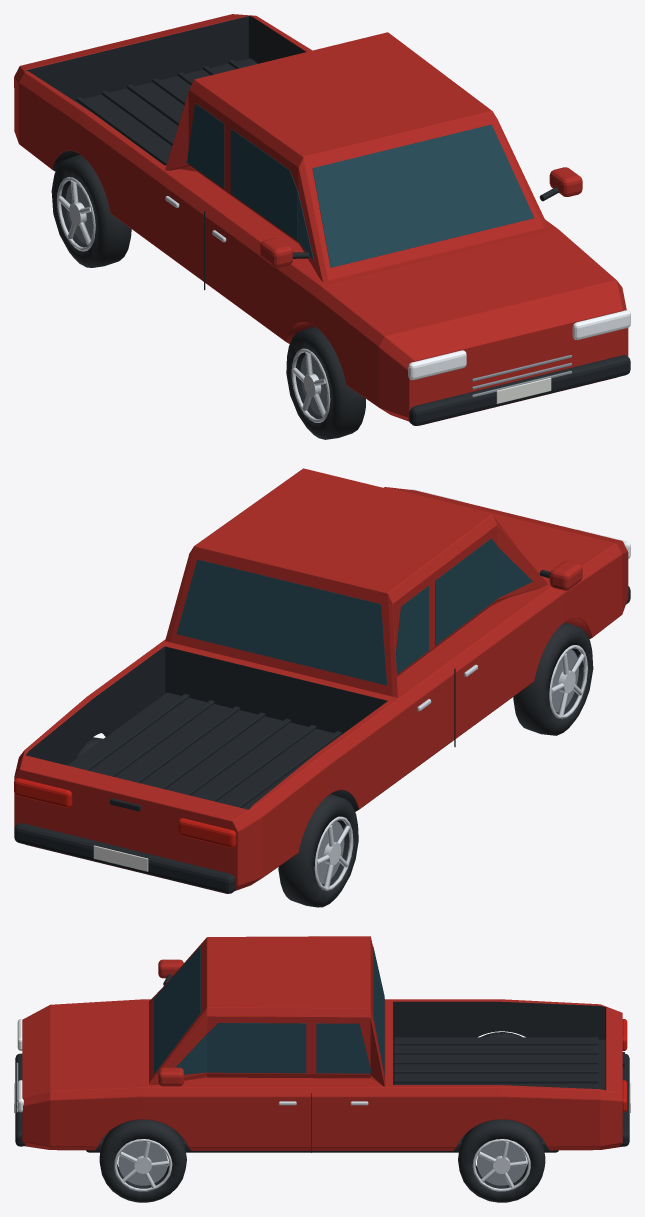
File: PickupTruck.fbx
The picture shows the model from 3 angles, top to bottom: view 1: azimuth 30°, elevation 25°; view 2: azimuth 150°, elevation 25°; view 3: azimuth 270°, elevation 25°; orthographic projection. The views are drawn at different scales.
Visible parts, largest first — view 1: PickupTruck, wheel1, wheel3; view 2: PickupTruck, wheel3, wheel1; view 3: PickupTruck, wheel4, wheel2.
Boxes of the visible parts, box(x1,y1,x2,y2) form: PickupTruck: box(14, 14, 630, 425); wheel1: box(286, 326, 365, 439); wheel3: box(51, 154, 131, 267); PickupTruck: box(14, 468, 630, 893); wheel3: box(278, 794, 358, 907); wheel1: box(513, 622, 593, 735); PickupTruck: box(14, 936, 630, 1185); wheel4: box(458, 1119, 545, 1202); wheel2: box(99, 1119, 186, 1202).
Size of the model in its own units: 244 by 182 by 551.
